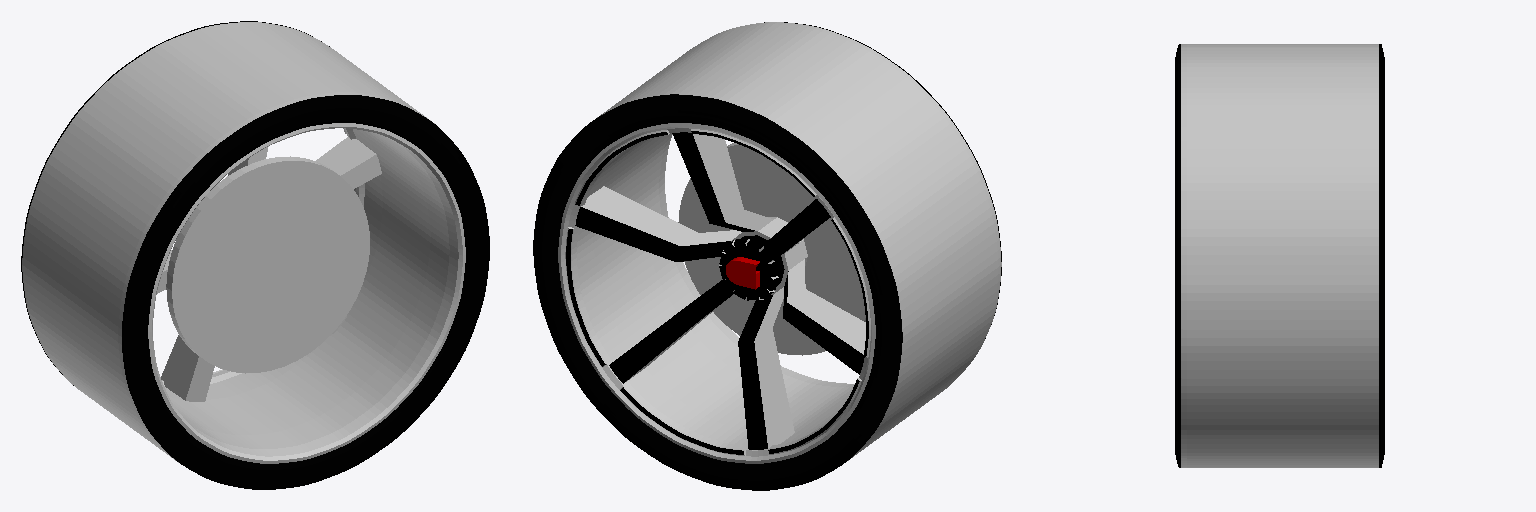
The model's file is disk_g.obj.
The picture shows the model from 3 angles: view 1: azimuth 30°, elevation 25°; view 2: azimuth 150°, elevation 25°; view 3: azimuth 270°, elevation 25°; orthographic projection.
Parts seen in each view (by area): view 1: Cylinder, Mesh, Mesh (2); view 2: Cylinder, Mesh (2), Mesh; view 3: Cylinder.
Part boxes in pixels (x1,y1,x2,y2): Cylinder: (21, 21, 489, 489); Mesh: (148, 123, 465, 463); Mesh (2): (157, 137, 381, 401); Cylinder: (533, 22, 1001, 490); Mesh (2): (575, 132, 865, 449); Mesh: (558, 123, 875, 463); Cylinder: (1175, 44, 1384, 467).
Size of the model in its own units: 0.9935 by 0.9935 by 0.4882.